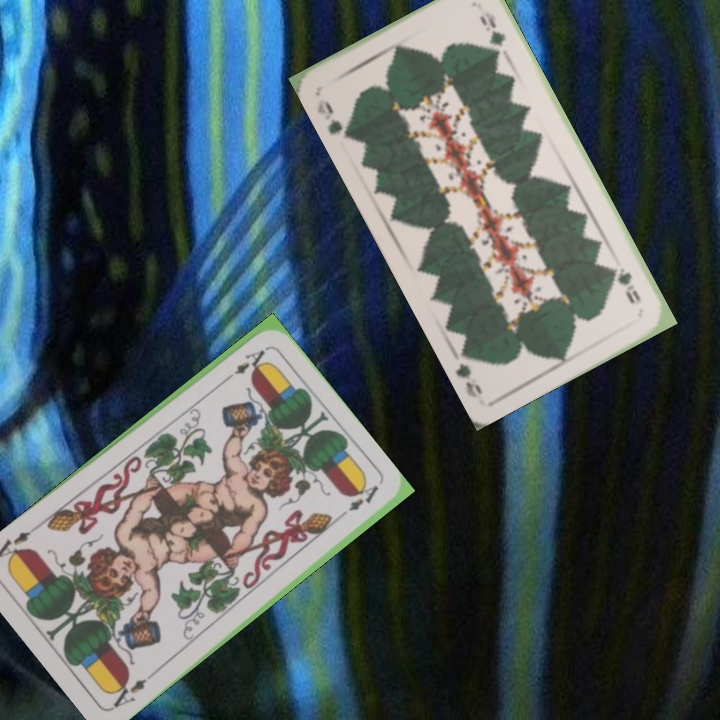EA: (106, 668, 157, 711), (219, 345, 268, 386)
G9: (313, 95, 354, 141), (608, 262, 644, 307)
